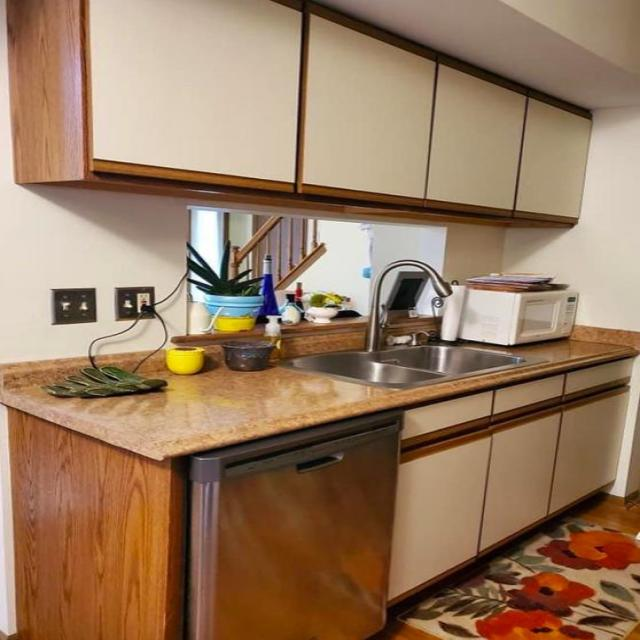dishwasher: (186, 405, 400, 639)
